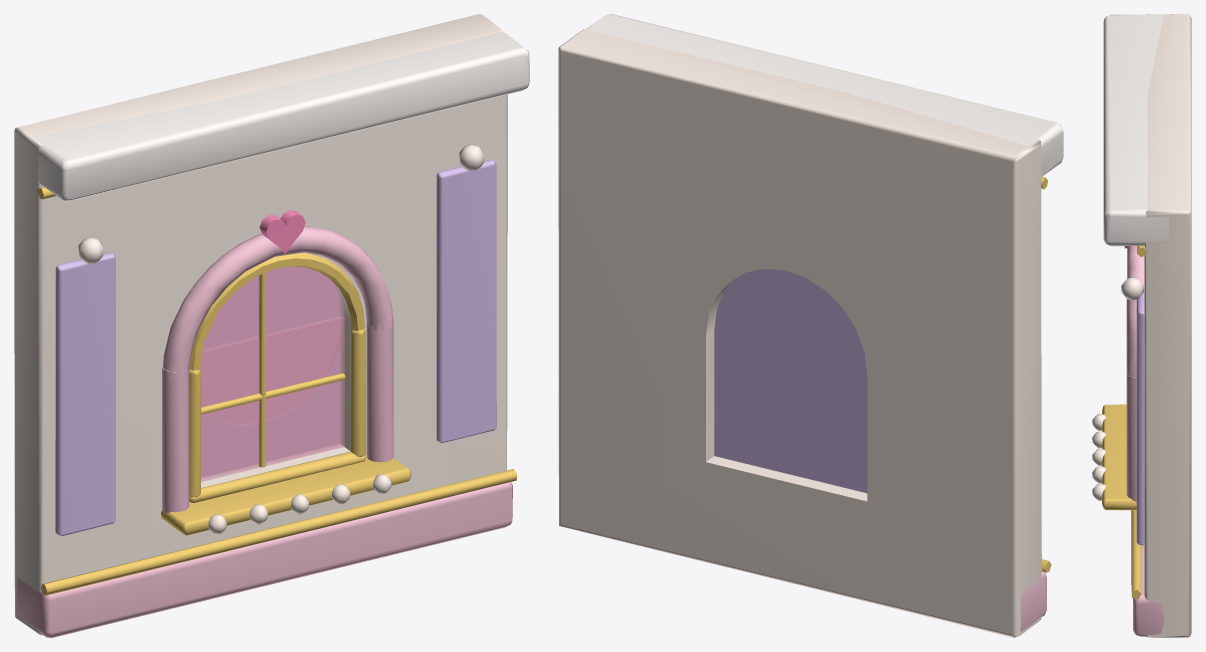
File: wall_window.glb
The picture shows the model from 3 angles, left to right: view 1: azimuth 30°, elevation 25°; view 2: azimuth 150°, elevation 25°; view 3: azimuth 270°, elevation 25°; orthographic projection. The views are drawn at different scales.
Visible parts, largest first — view 1: wall_window; view 2: wall_window; view 3: wall_window.
Part boxes in pixels (<box>): wall_window: <box>14,14,529,637</box>; wall_window: <box>558,14,1063,637</box>; wall_window: <box>1092,14,1191,637</box>.
Bounding box in the file's own units: 4 × 4 × 0.8413.
